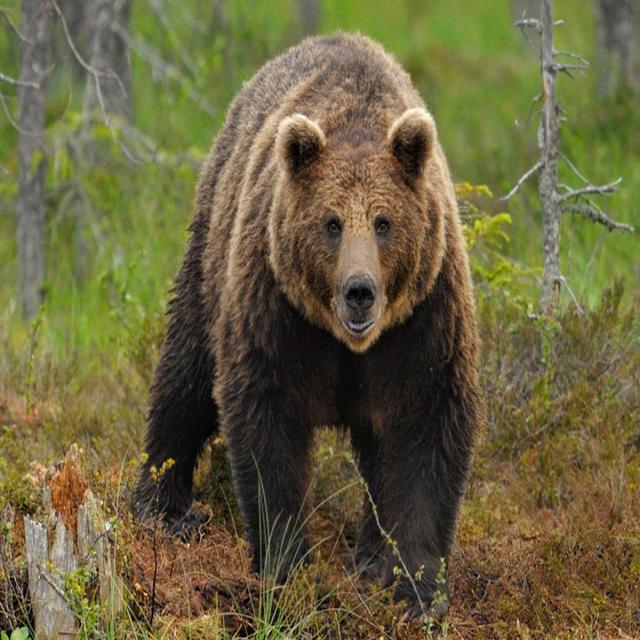bear: (124, 0, 493, 638)
